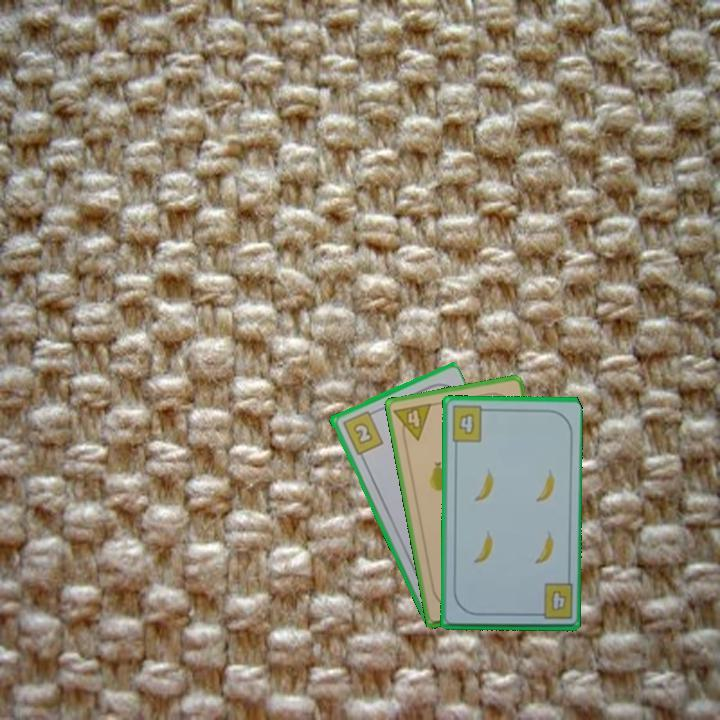2b: (339, 407, 386, 457)
4b: (530, 580, 575, 622), (448, 403, 491, 445)
4p: (390, 400, 434, 445)
